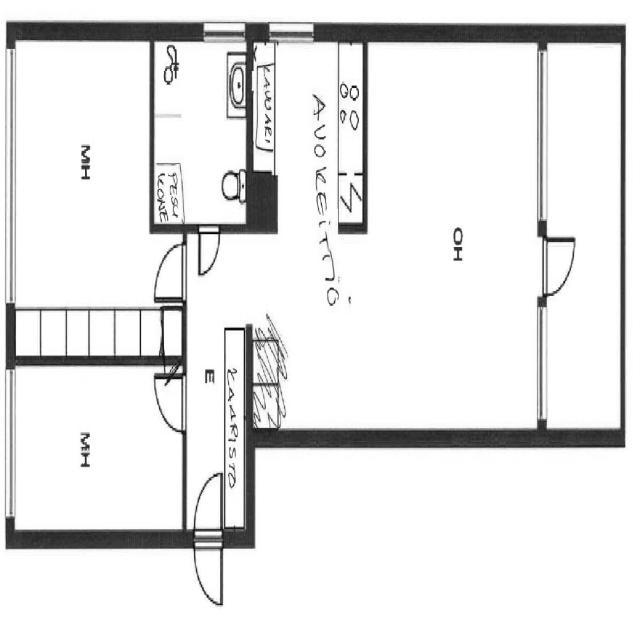door: (191, 464, 227, 609), (151, 235, 187, 305), (541, 231, 577, 296), (152, 373, 188, 433), (196, 220, 223, 278)
window: (0, 45, 21, 314), (534, 43, 548, 226), (3, 364, 18, 525), (265, 18, 318, 44), (198, 17, 247, 43), (536, 306, 546, 416)
zone: (360, 31, 548, 424), (10, 33, 168, 361), (542, 29, 622, 432), (10, 360, 183, 545), (250, 36, 366, 222), (152, 33, 250, 227)
